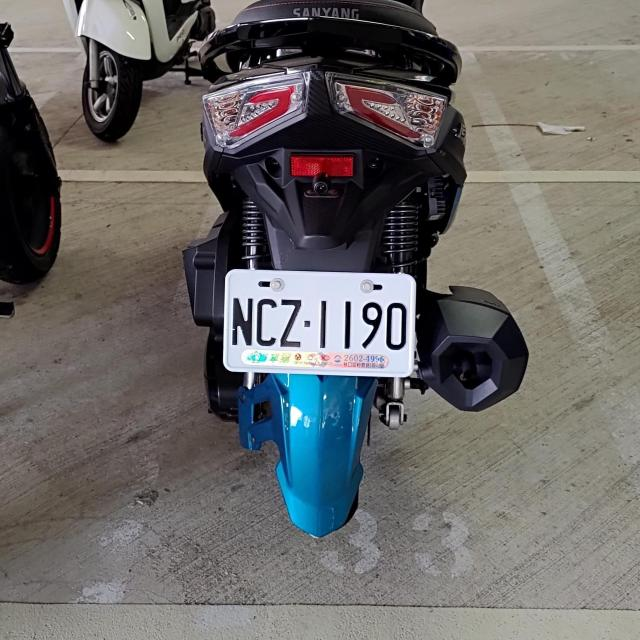W: (220, 269, 416, 374)
